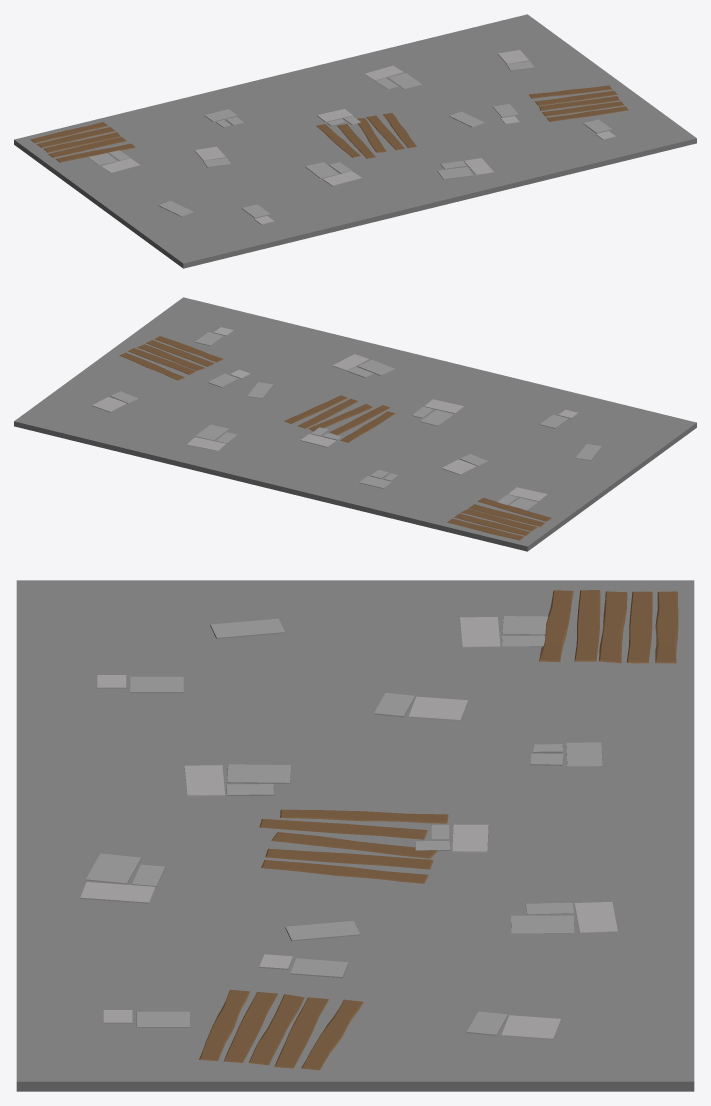
File: Map3_floor.fbx
3 renders of one model, top to bottom at view 1: azimuth 30°, elevation 25°; view 2: azimuth 150°, elevation 25°; view 3: azimuth 270°, elevation 25°, orthographic. The views are drawn at different scales.
Visible parts, largest first — view 1: Map 1 floor; view 2: Map 1 floor; view 3: Map 1 floor.
Part boxes in pixels (x1,y1,x2,y2): Map 1 floor: [14, 14, 696, 268]; Map 1 floor: [14, 297, 696, 551]; Map 1 floor: [16, 580, 694, 1091].
Size of the model in its own units: 5600 by 58.92 by 3200.
